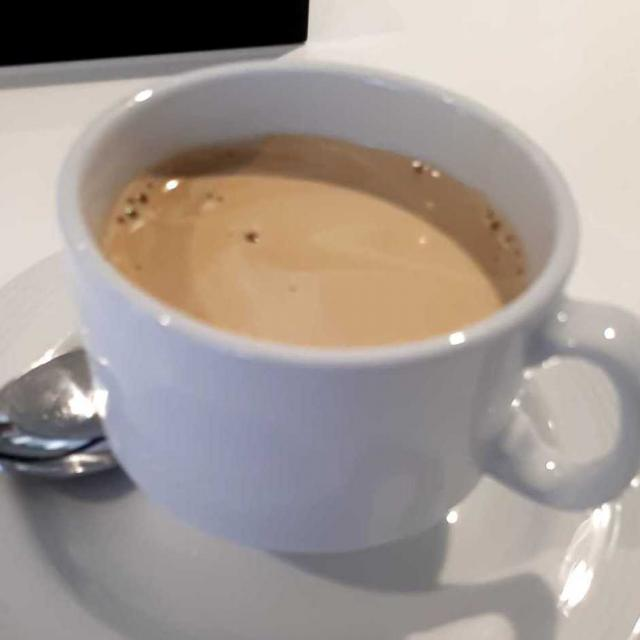coffee-with-caffeine: (106, 138, 509, 344)
white-coffee-with-caffeine: (105, 135, 520, 341), (106, 138, 509, 344)
